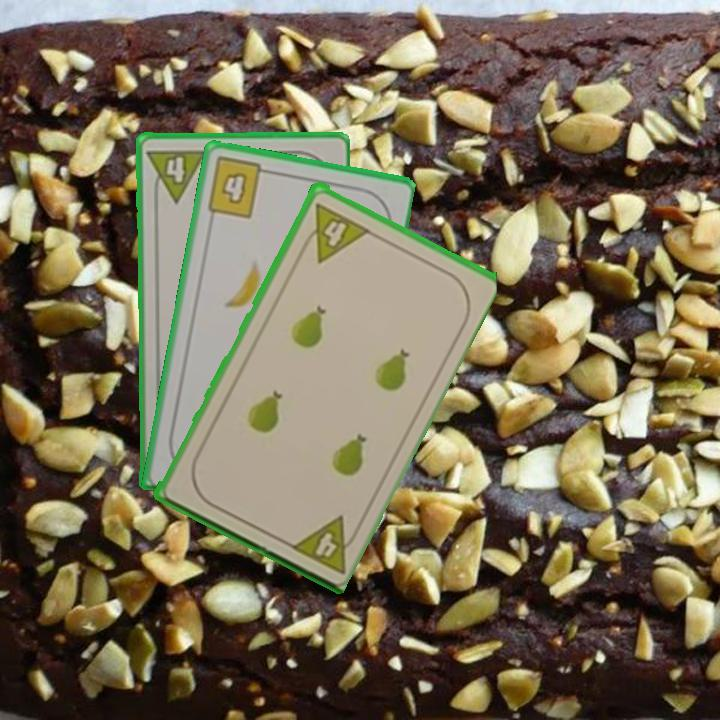4b: (203, 153, 275, 221)
4p: (284, 511, 364, 577), (296, 199, 371, 265), (144, 145, 209, 205)
